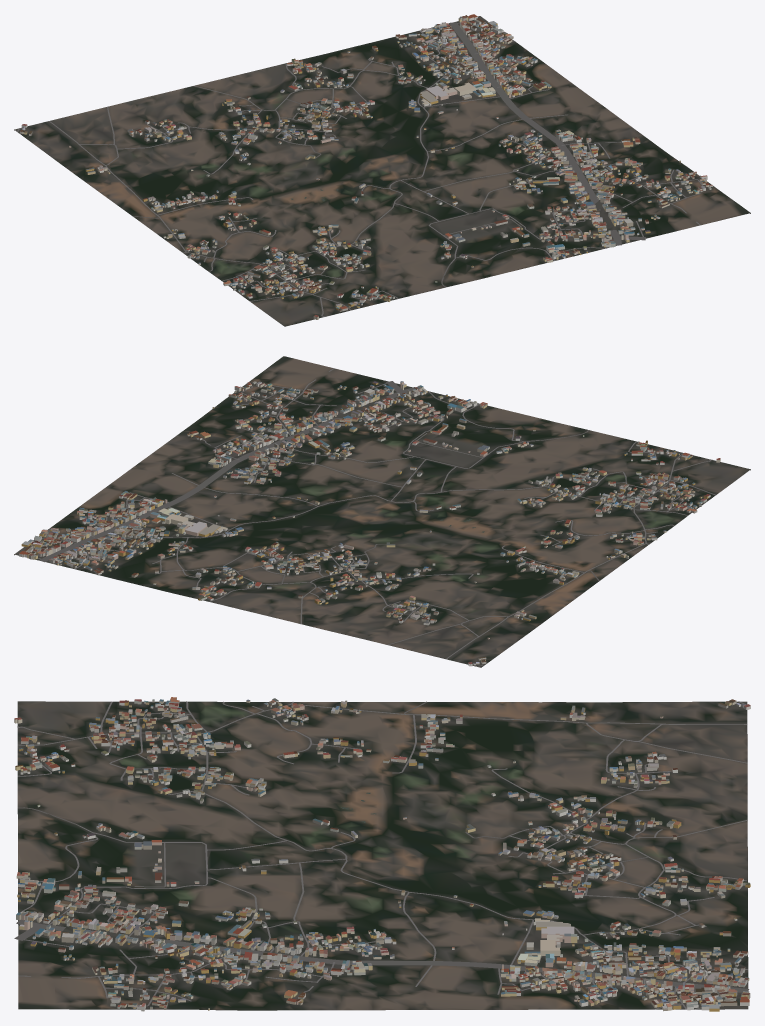
The picture shows the model from 3 angles, top to bottom: view 1: azimuth 30°, elevation 25°; view 2: azimuth 150°, elevation 25°; view 3: azimuth 270°, elevation 25°; orthographic projection. The views are drawn at different scales.
Visible parts, largest first — view 1: ground, buildings, roads; view 2: ground, buildings, roads; view 3: ground, buildings, roads.
Part boxes in pixels (<box>): ground: <box>14,16,750,326</box>; buildings: <box>20,14,712,319</box>; roads: <box>17,22,705,317</box>; ground: <box>14,356,750,667</box>; buildings: <box>19,381,720,666</box>; roads: <box>33,368,715,666</box>; ground: <box>17,701,748,1010</box>; buildings: <box>14,697,750,1011</box>; roads: <box>14,701,749,1009</box>.
Size of the model in its own units: 1415 by 23.2 by 1415.
